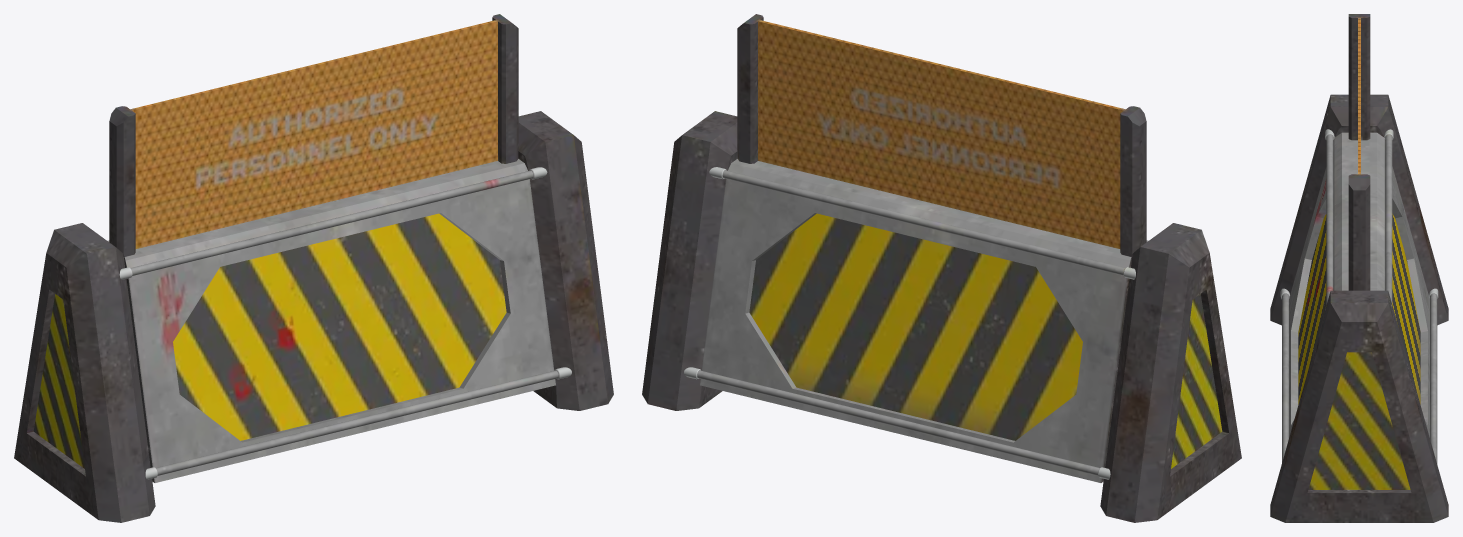
The model's file is barrier_bloody.glb.
The picture shows the model from 3 angles, left to right: view 1: azimuth 30°, elevation 25°; view 2: azimuth 150°, elevation 25°; view 3: azimuth 270°, elevation 25°; orthographic projection. The views are drawn at different scales.
Parts seen in each view (by area): view 1: Object_2; view 2: Object_2; view 3: Object_2.
Part boxes in pixels (left/top/right/bottom): Object_2: left=14, top=14, right=613, bottom=522; Object_2: left=642, top=14, right=1241, bottom=522; Object_2: left=1270, top=14, right=1448, bottom=522.
Bounding box in the file's own units: 3.83 × 2.56 × 1.31.
1 material, 1 textured.
